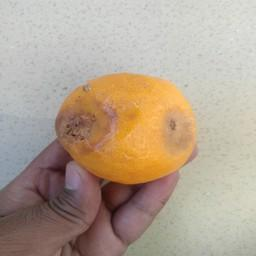Bad_orange: (52, 67, 211, 185)
